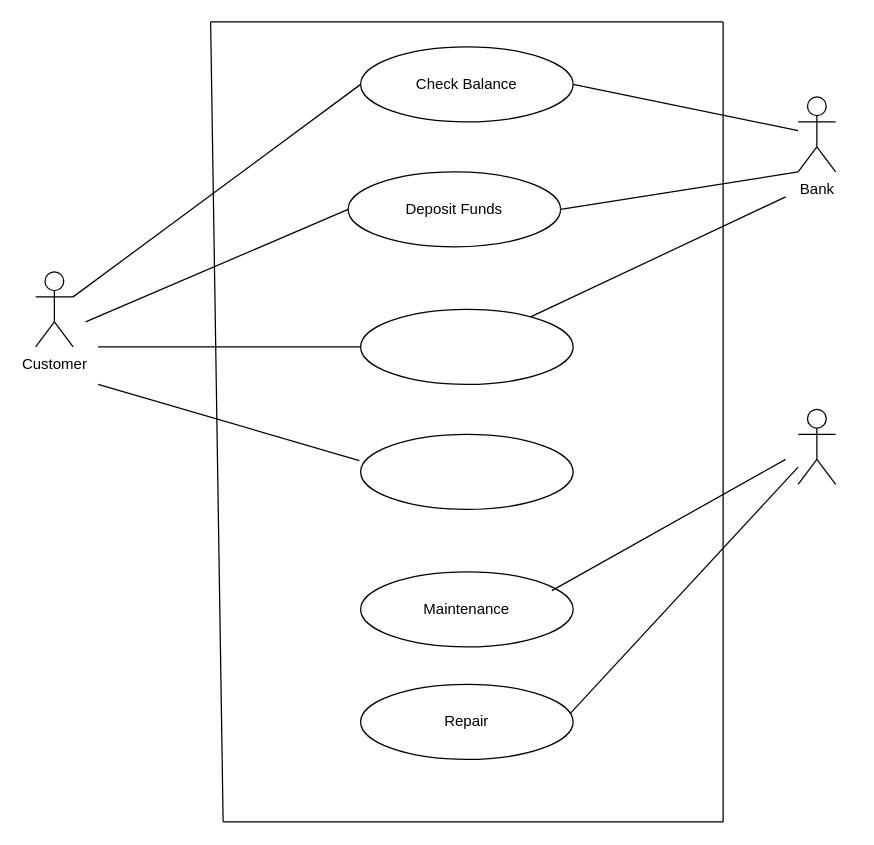
Some shapes in this 874 by 845 pixel diagram are drawn without their labels. Here are the shapes that lost their labels. From the top down, the centre of each, then its label:
(x=466, y=346): Withdraw cash
(x=816, y=446): Technician
(x=466, y=471): Transfer Funds
